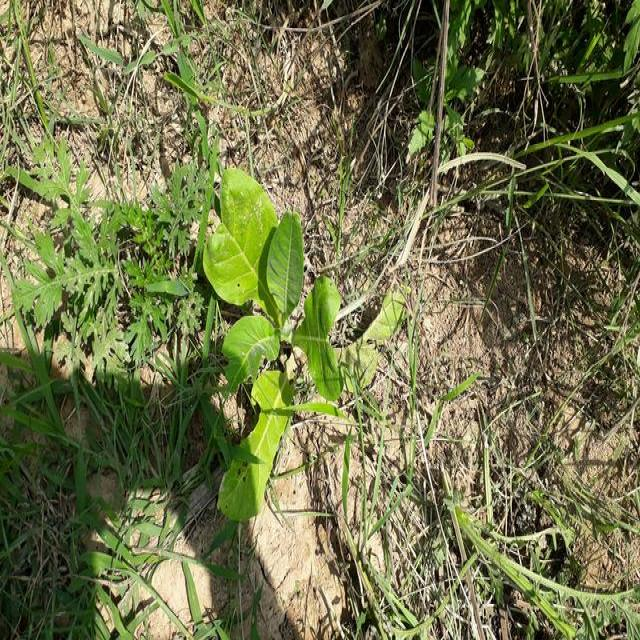crop: (207, 170, 404, 527)
